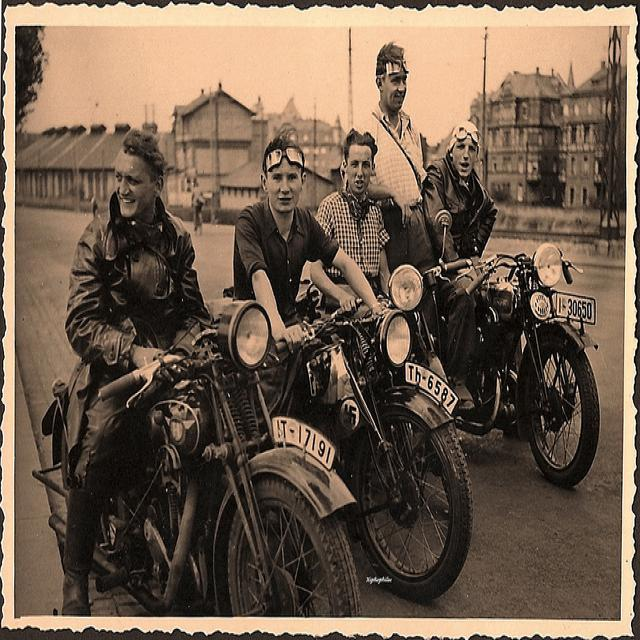motor: (90, 296, 360, 617), (276, 311, 472, 603), (461, 241, 602, 483), (376, 212, 474, 394)
